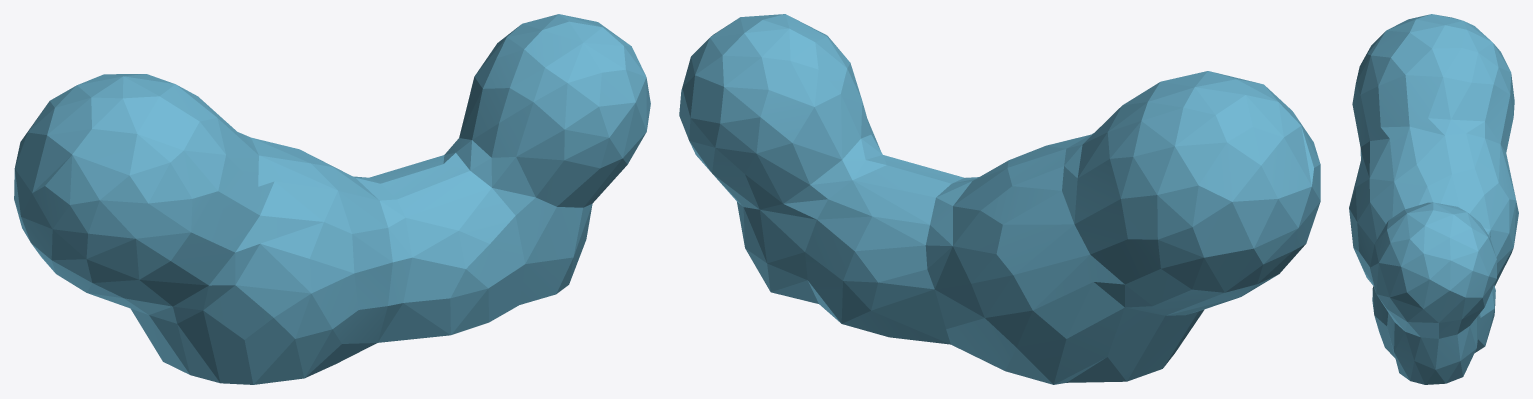
File: small_cloud_30.fbx
The picture shows the model from 3 angles, left to right: view 1: azimuth 30°, elevation 25°; view 2: azimuth 150°, elevation 25°; view 3: azimuth 270°, elevation 25°; orthographic projection. The views are drawn at different scales.
Visible parts, largest first — view 1: cloud_40; view 2: cloud_40; view 3: cloud_40.
Boxes of the visible parts, x1,y1,x2,y2 form: cloud_40: [14, 14, 650, 384]; cloud_40: [679, 14, 1320, 384]; cloud_40: [1349, 14, 1518, 384].
Size of the model in its own units: 607 by 289 by 205.
